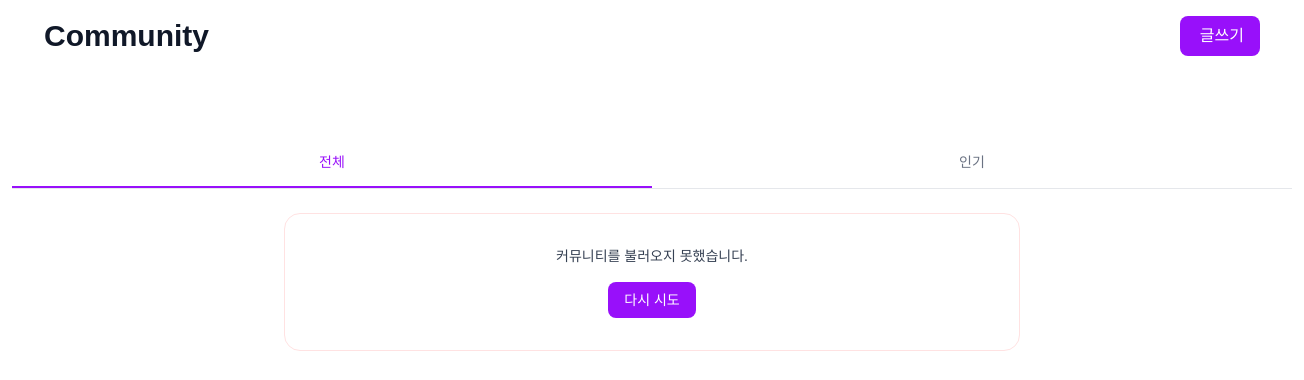
Test: CommunityPage › renders a retryable error rather than falling back to fake posts
This screenshot has width=1304, height=380.
Expected: the text "커뮤니티를 불러오지 못했습니다." is shown, [556,248,748,264]
Click the button "다시 시도".
click(652, 300)  # box [608,282,696,318]
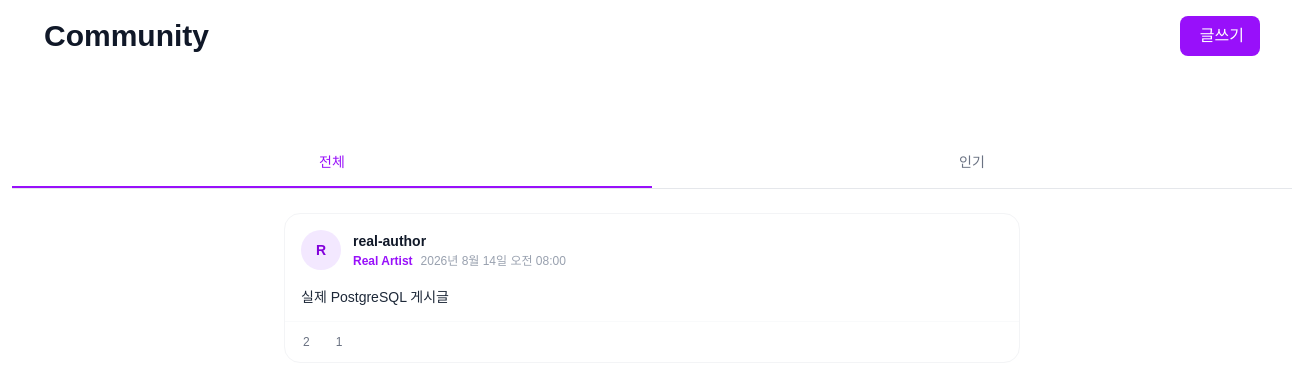
Expected: the text "실제 PostgreSQL 게시글" is shown, [301,289,449,305]
